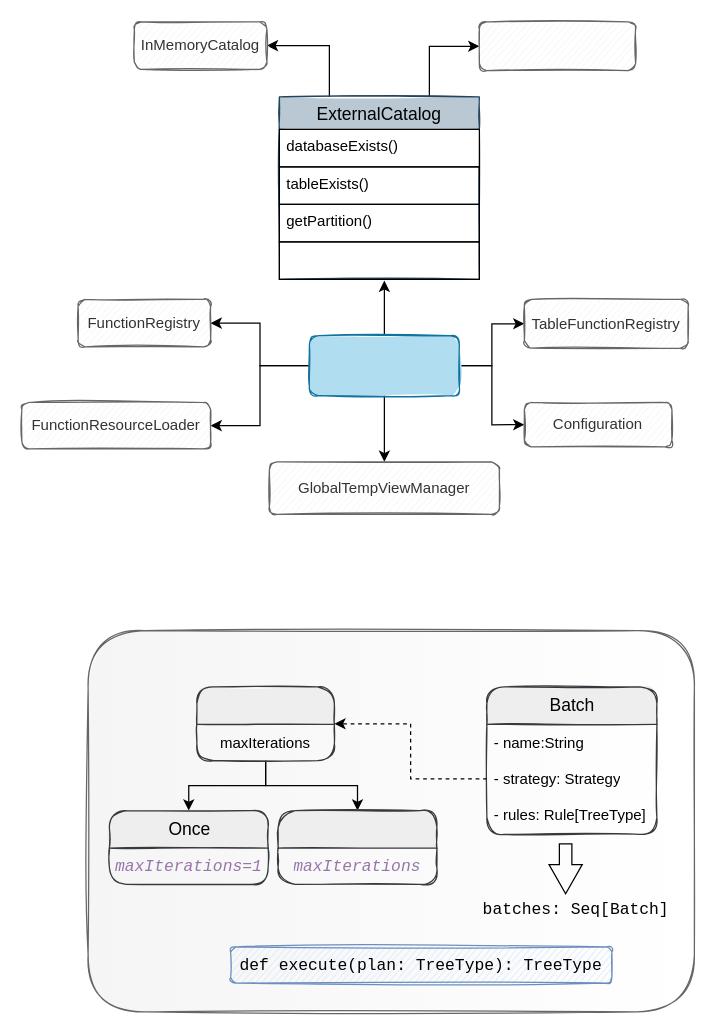
This 716x1034 diagram has some shape labels left out. Each missing label, with the box of its shape:
createFunction(): (278, 241, 479, 279)
FixedPoint: (277, 809, 437, 884)
HiveExternalCatalog: (478, 21, 636, 71)
RuleExecutor[TreeType <: TreeNode[_]]: (87, 629, 694, 1012)
SessionCatalog: (308, 334, 459, 396)
Strategy: (196, 686, 334, 761)
